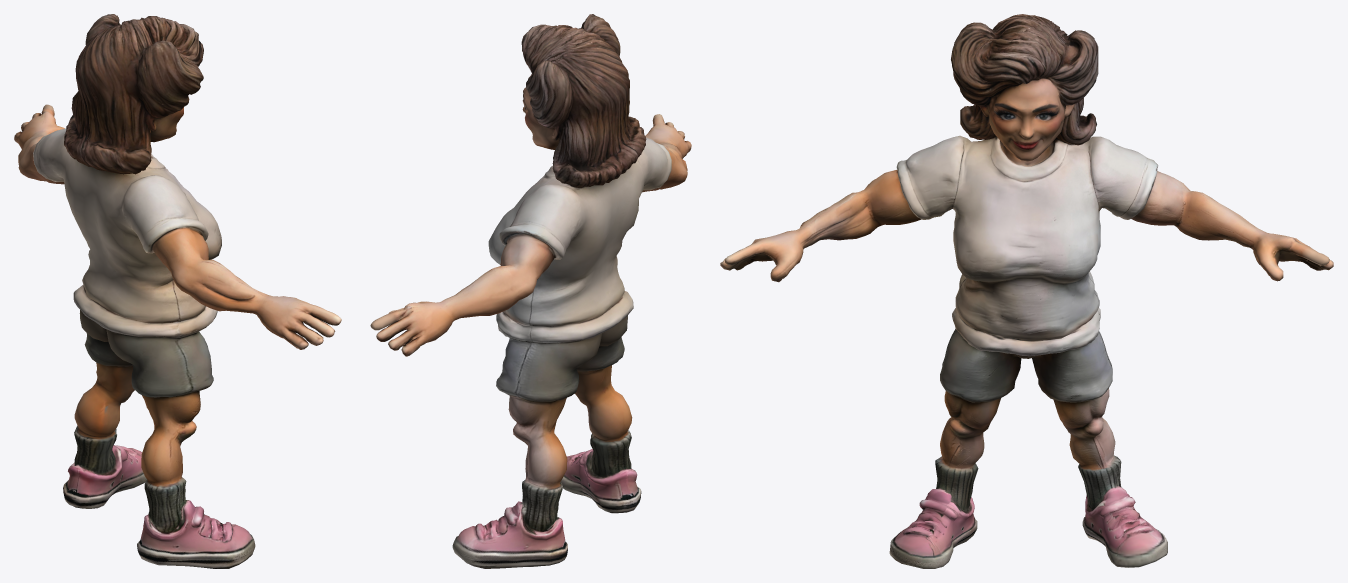
The picture shows the model from 3 angles, left to right: view 1: azimuth 30°, elevation 25°; view 2: azimuth 150°, elevation 25°; view 3: azimuth 270°, elevation 25°; orthographic projection. The views are drawn at different scales.
Visible parts, largest first — view 1: tripo_node_c9b4c8dd; view 2: tripo_node_c9b4c8dd; view 3: tripo_node_c9b4c8dd.
Part boxes in pixels (x1=…): tripo_node_c9b4c8dd: x1=14, y1=14, x2=341, y2=568; tripo_node_c9b4c8dd: x1=370, y1=14, x2=691, y2=568; tripo_node_c9b4c8dd: x1=720, y1=14, x2=1333, y2=568.
Bounding box in the file's own units: 0.2485 × 0.9432 × 1.
Materials: 1 (1 with a texture image).
